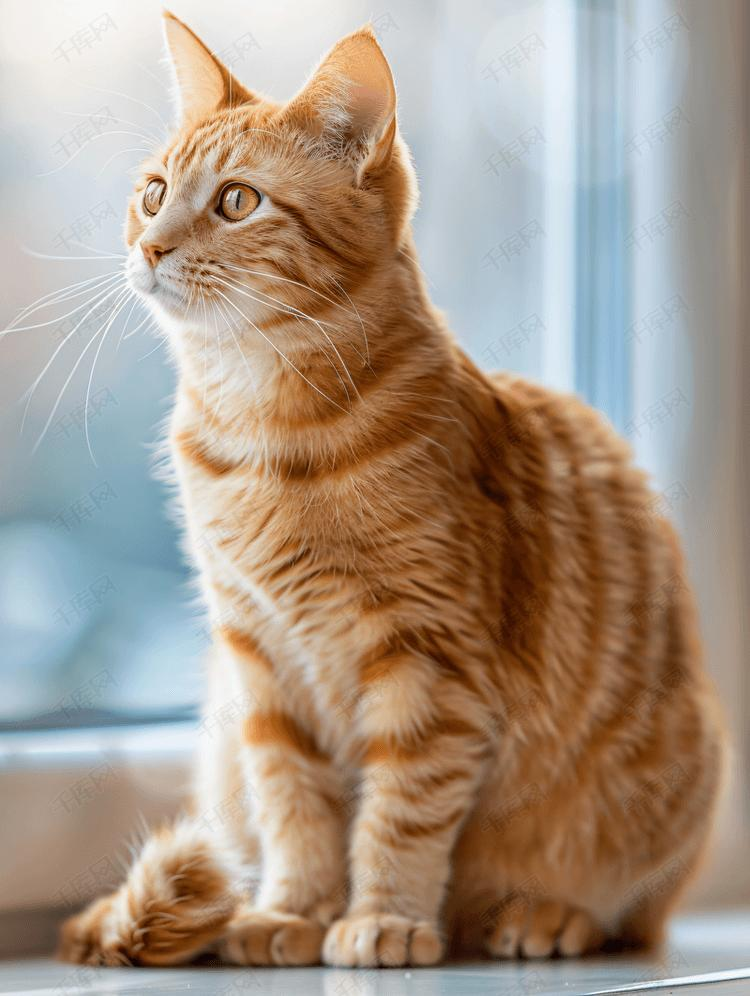橘猫: (131, 129, 643, 764), (127, 11, 407, 327)
